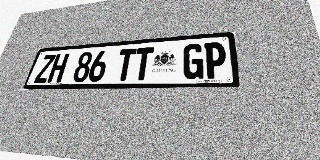6: (87, 50, 109, 82)
8: (72, 51, 94, 82)
G: (182, 43, 203, 79)
H: (47, 53, 70, 83)
P: (204, 42, 227, 79)
T: (114, 48, 137, 81), (132, 47, 154, 81)
Z: (33, 54, 56, 83)
